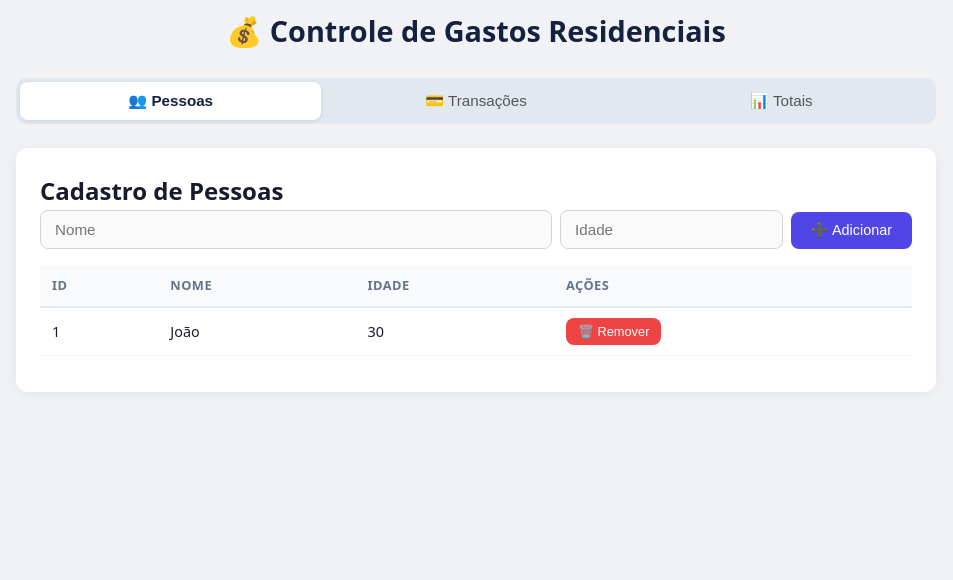
Test case: TransactionsTab › should show pagination controls for the transaction list
Click the button "💳 Transações".
click(476, 101)  # box [325,82,627,120]
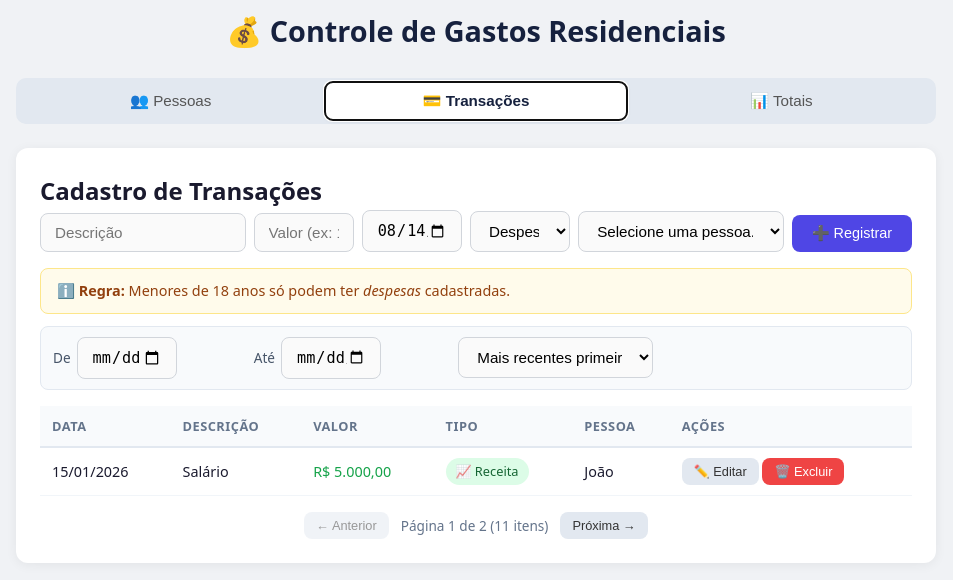
Expected: the text "Salário" is shown, [170,447,301,496]
Expected: the text "Página 1 de 2 (11 itens)" is shown, [401,515,548,536]
